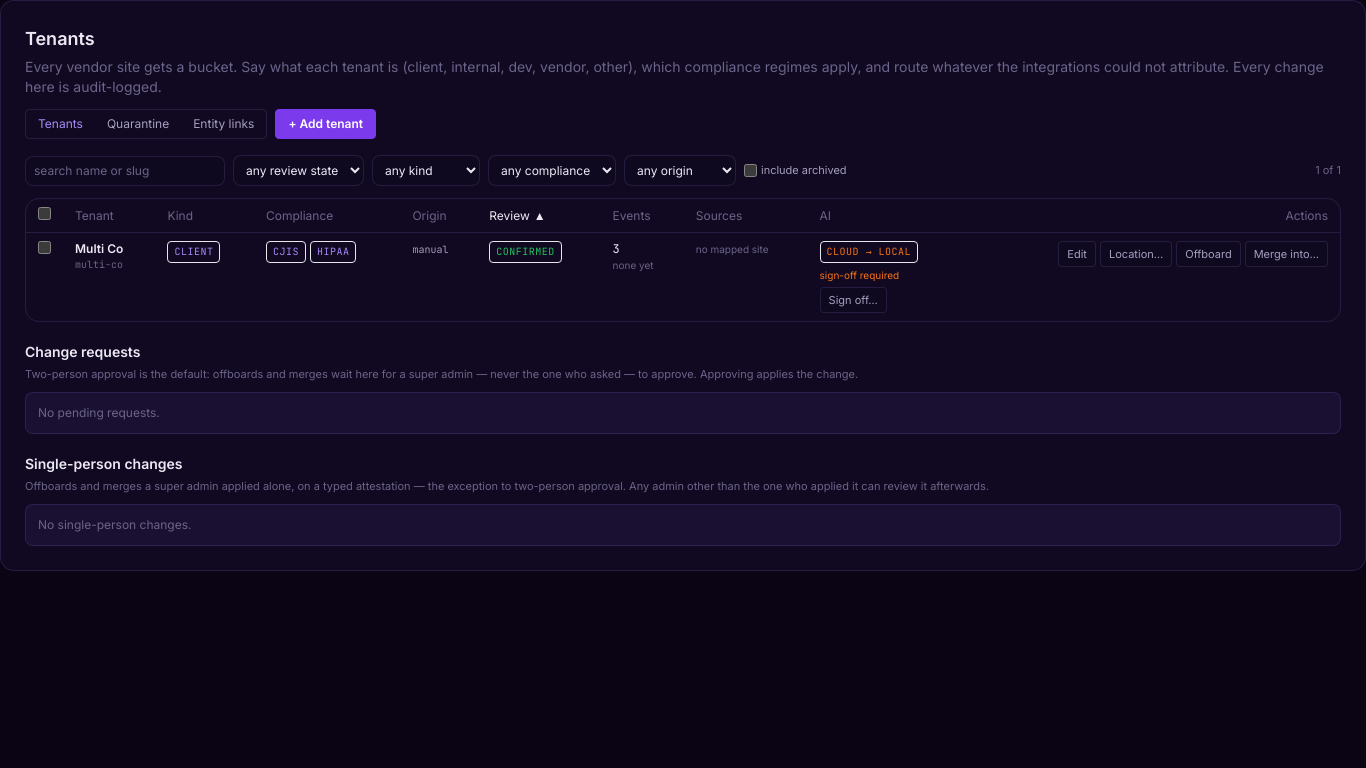
Sign off for cloud AI › a tenant with several regimes needs one agreement for EACH before it can be signed
Click the button "Sign off…": click(853, 300) [820,287,887,313]
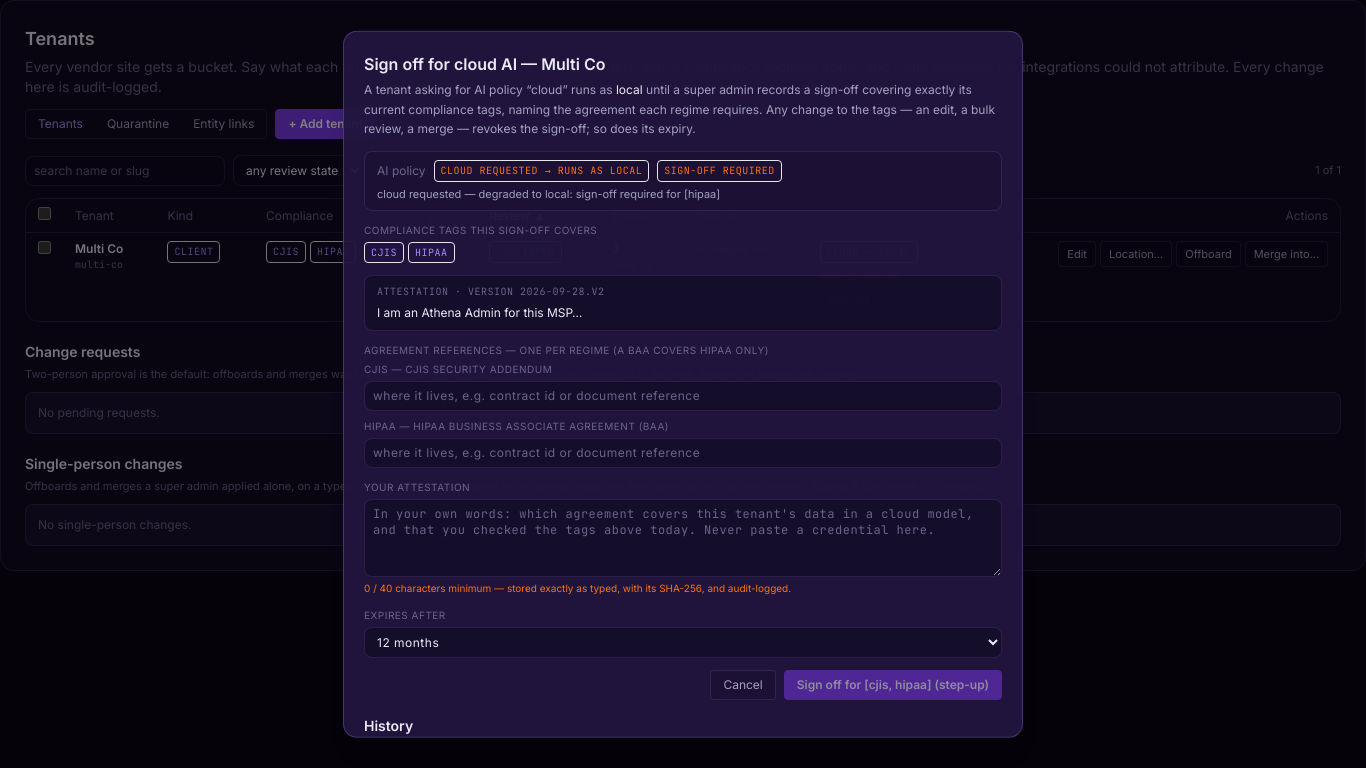
Expected: the element with test id "signoff-agreements" is shown, [364,343,1002,468]
Replace the text in the text box labelled "attestation" with "I have checked Acme's tags today and our BAA with them covers cloud processing of alerts.": (683, 538) [364,499,1002,577]
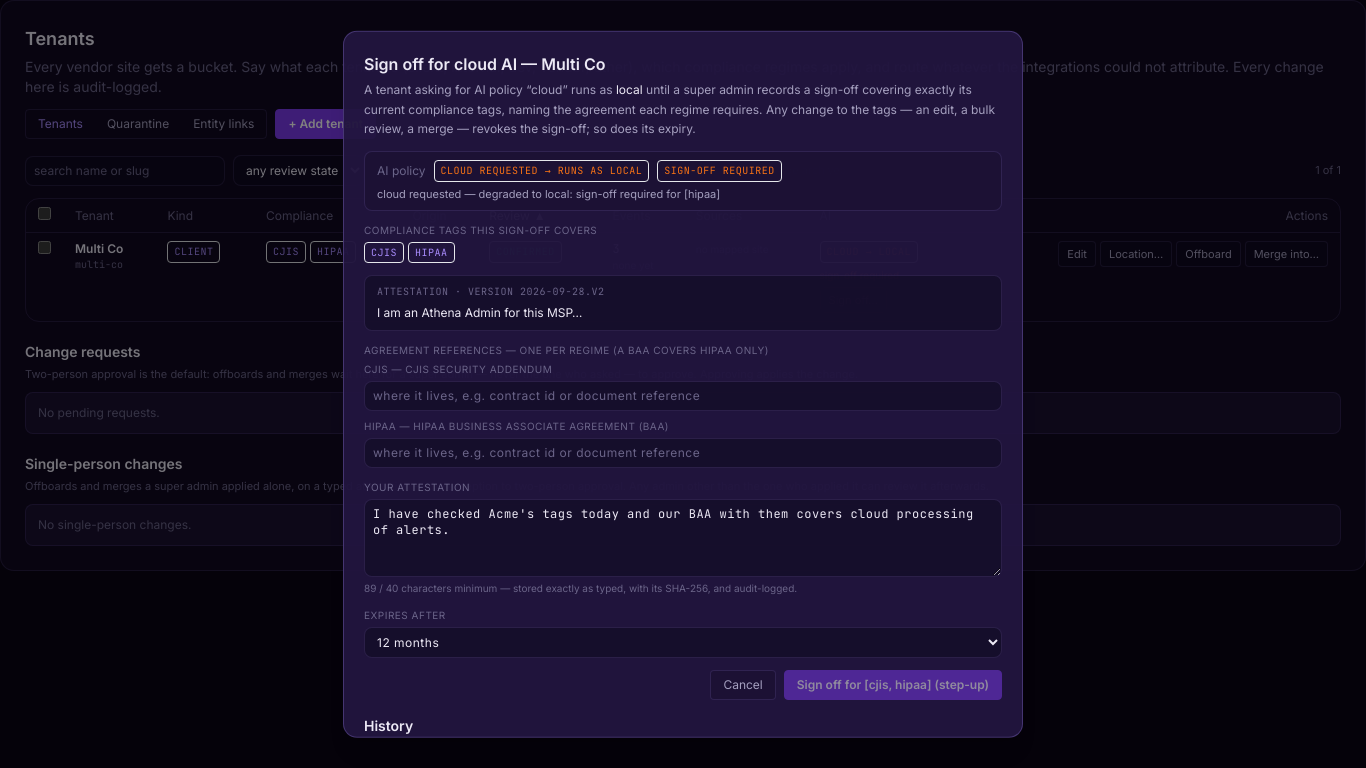
In the field named "HIPAA business associate agreement (BAA) reference": (683, 453) [364,438,1002,468], type "BAA-2026-014"
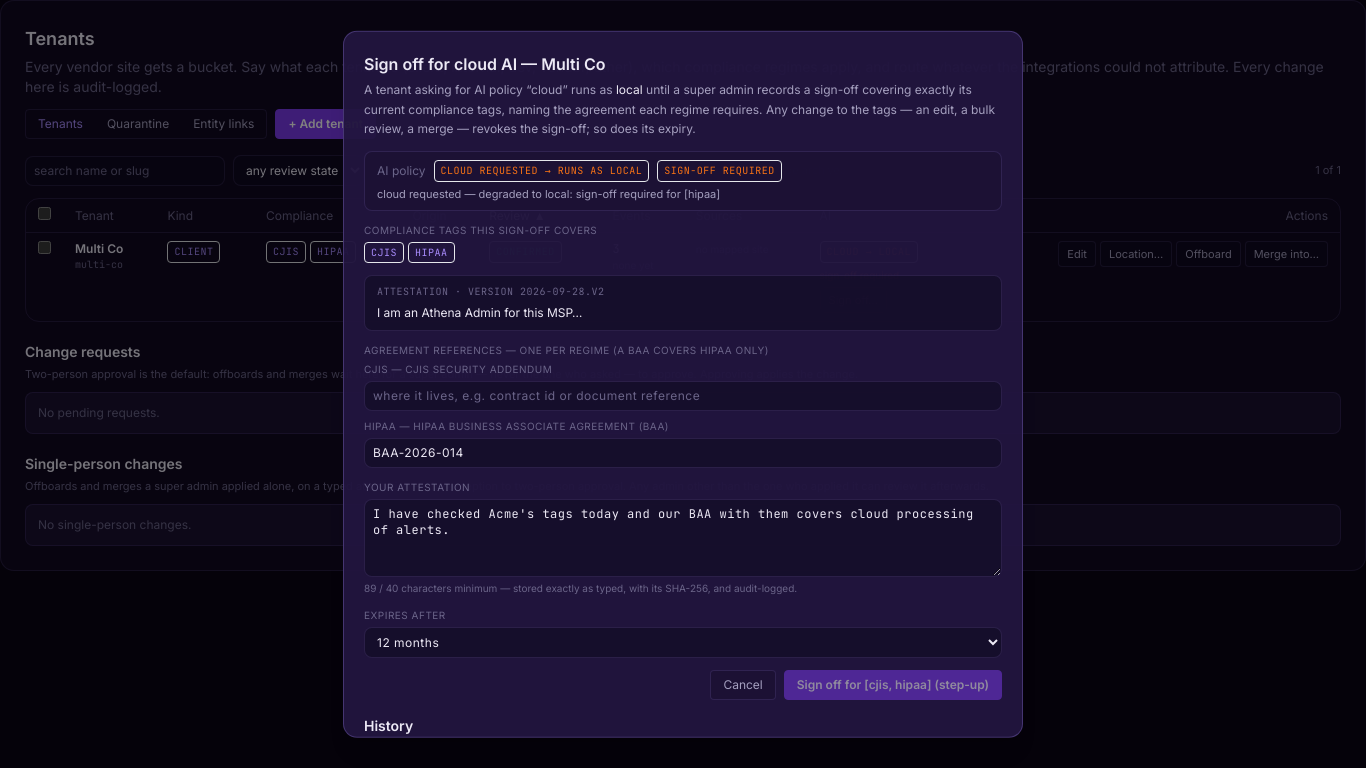
Expected: the button with test id "signoff-submit" is disabled, [784,670,1002,700]
In the field named "CJIS Security Addendum reference": (683, 396) [364,381,1002,411], type "CSA-7"
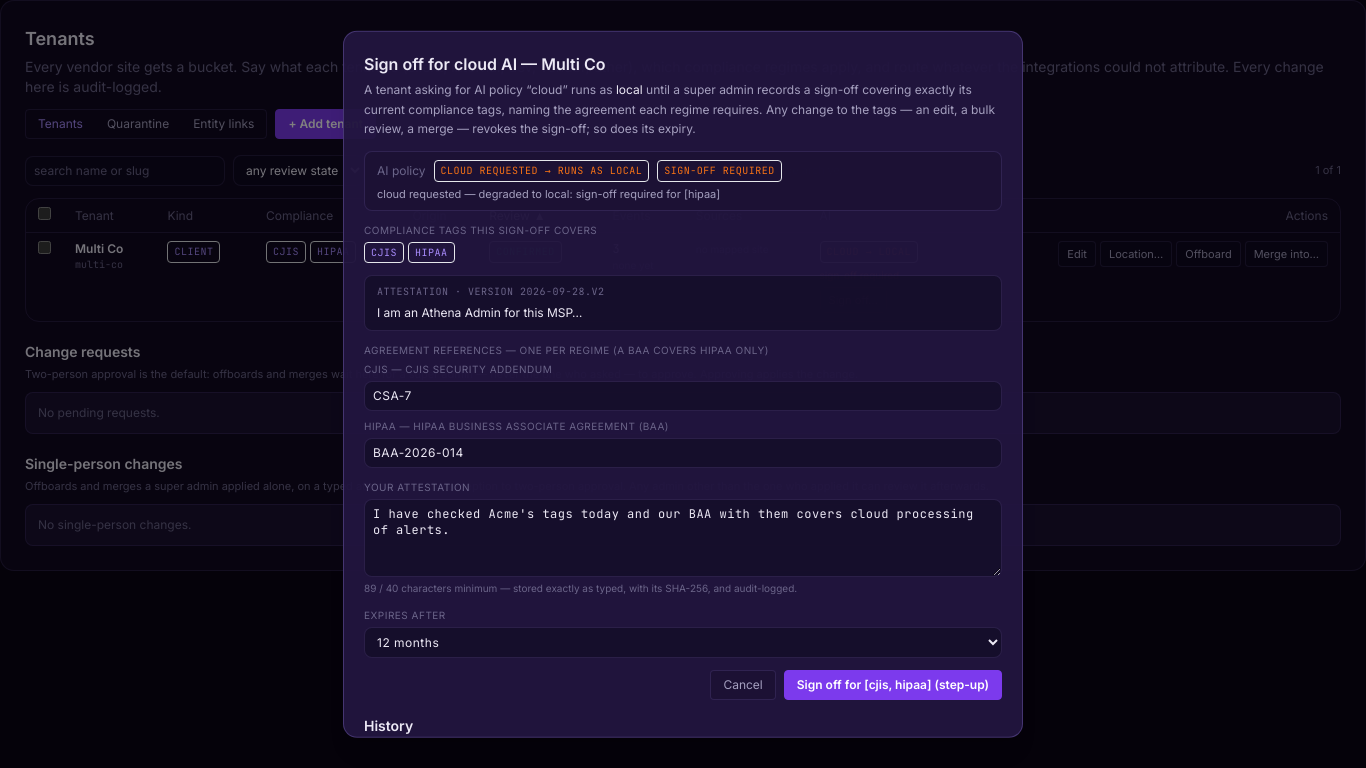
Expected: the button with test id "signoff-submit" is enabled
Click the button with test id "signoff-submit": click(893, 685) [784,670,1002,700]
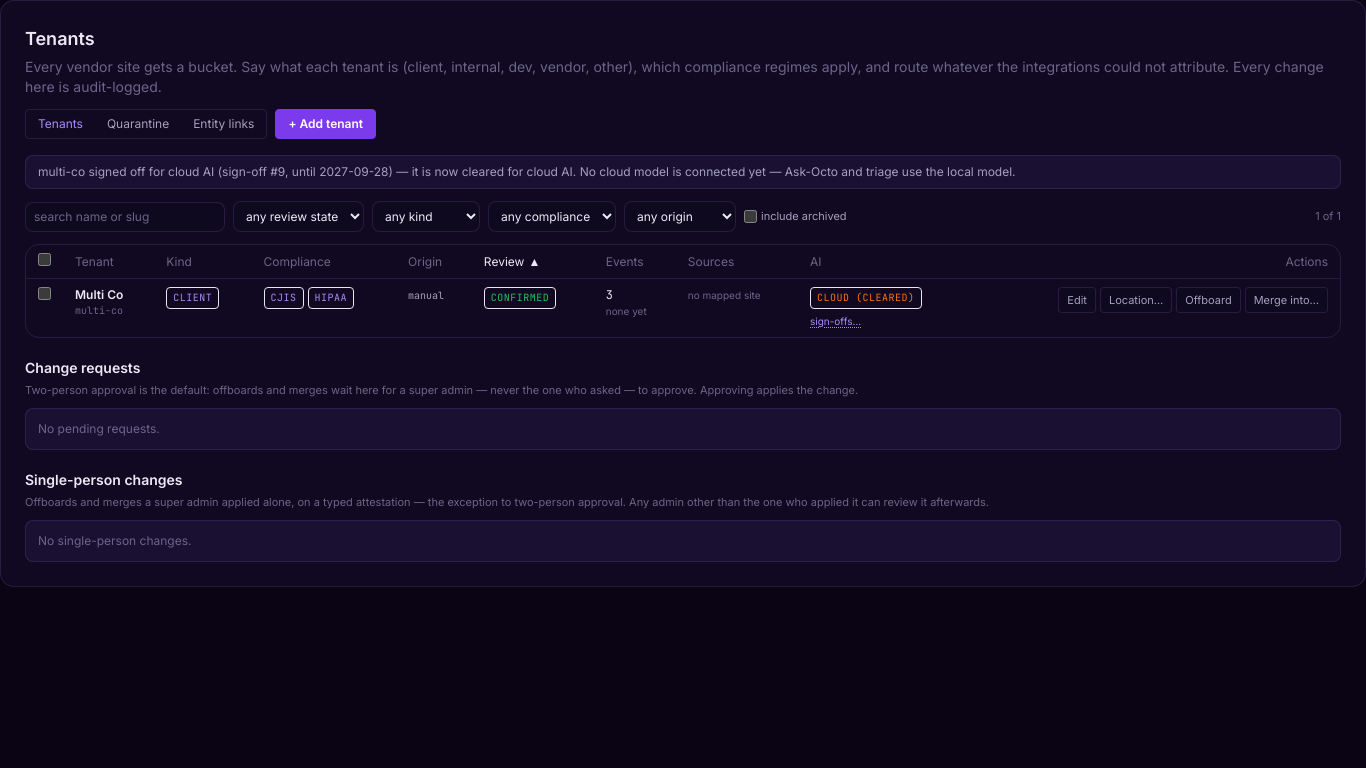
Expected: the dialog with test id "compliance-signoff-dialog" is gone
